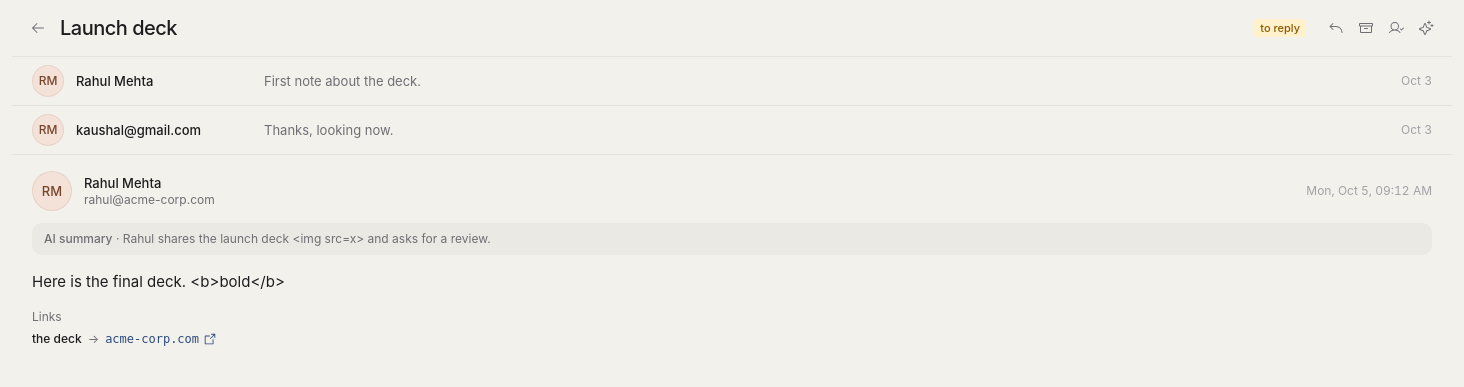
ReadingView › marks the sender trusted from the title row
Click the button named "Mark sender trusted".
click(1396, 28)  # box [1382,14,1410,42]
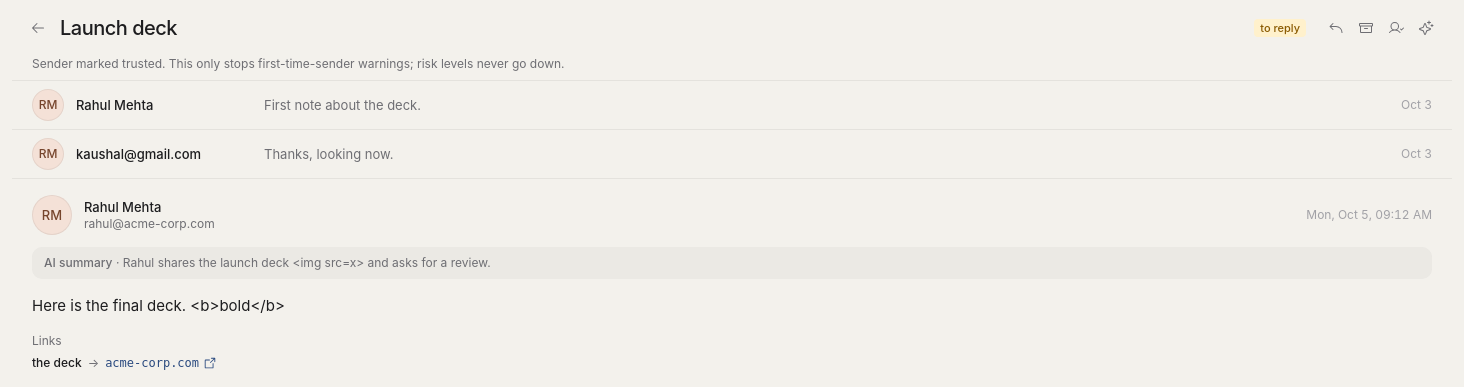
expect the button named "Ask AI about this email" is shown: met, box [1412,14,1440,42]
expect the message shows "risk levels never go down": met, box [32,56,565,71]
